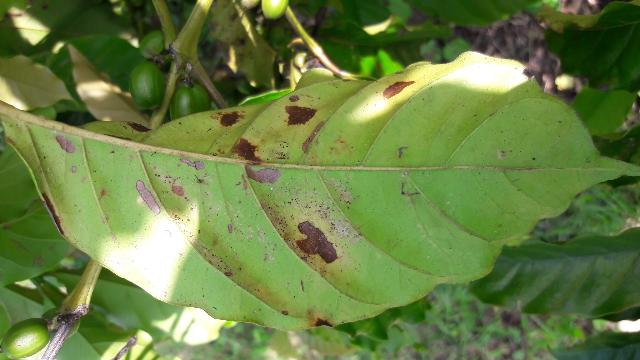red_spider_mite: (4, 48, 640, 331)
